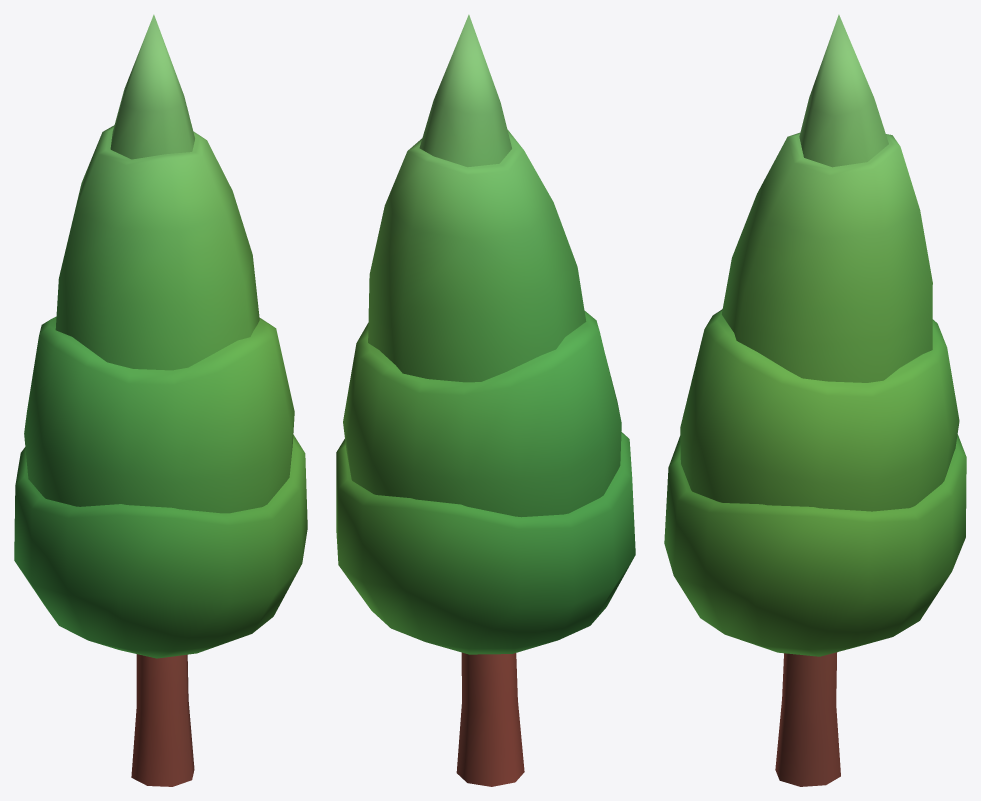
The model's file is Furniture_Vegetation_1.fbx.
3 views of the same model, side by side, from view 1: azimuth 30°, elevation 25°; view 2: azimuth 150°, elevation 25°; view 3: azimuth 270°, elevation 25° (orthographic). The views are drawn at different scales.
Visible parts, largest first — view 1: Furniture_Vegetation_1; view 2: Furniture_Vegetation_1; view 3: Furniture_Vegetation_1.
Boxes of the visible parts, x1,y1,x2,y2 form: Furniture_Vegetation_1: (14,14,307,786); Furniture_Vegetation_1: (336,14,635,786); Furniture_Vegetation_1: (664,14,966,786).
Size of the model in its own units: 139 by 389 by 140.
